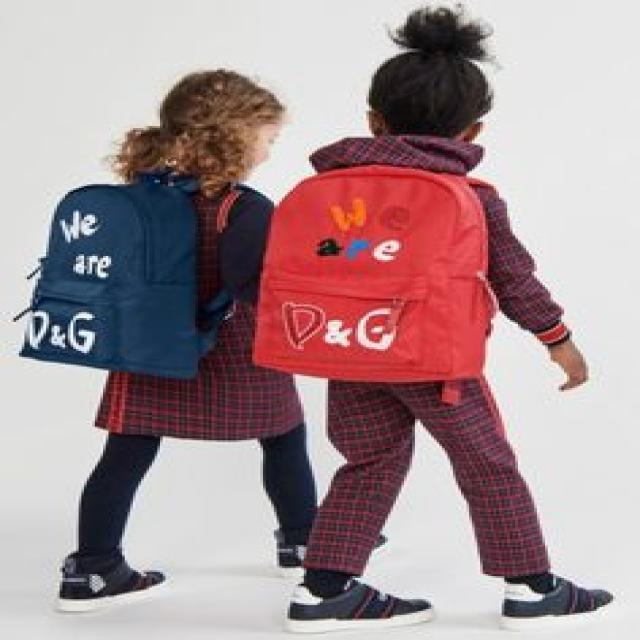handbag: (252, 162, 513, 392), (3, 168, 238, 384)
